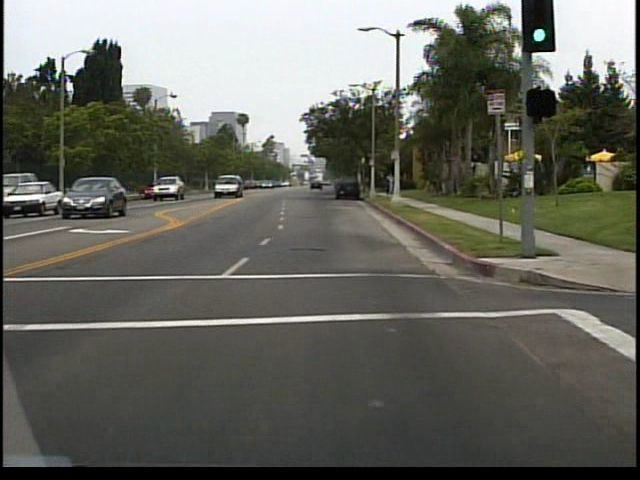person: (386, 174, 400, 197), (389, 176, 390, 196)
